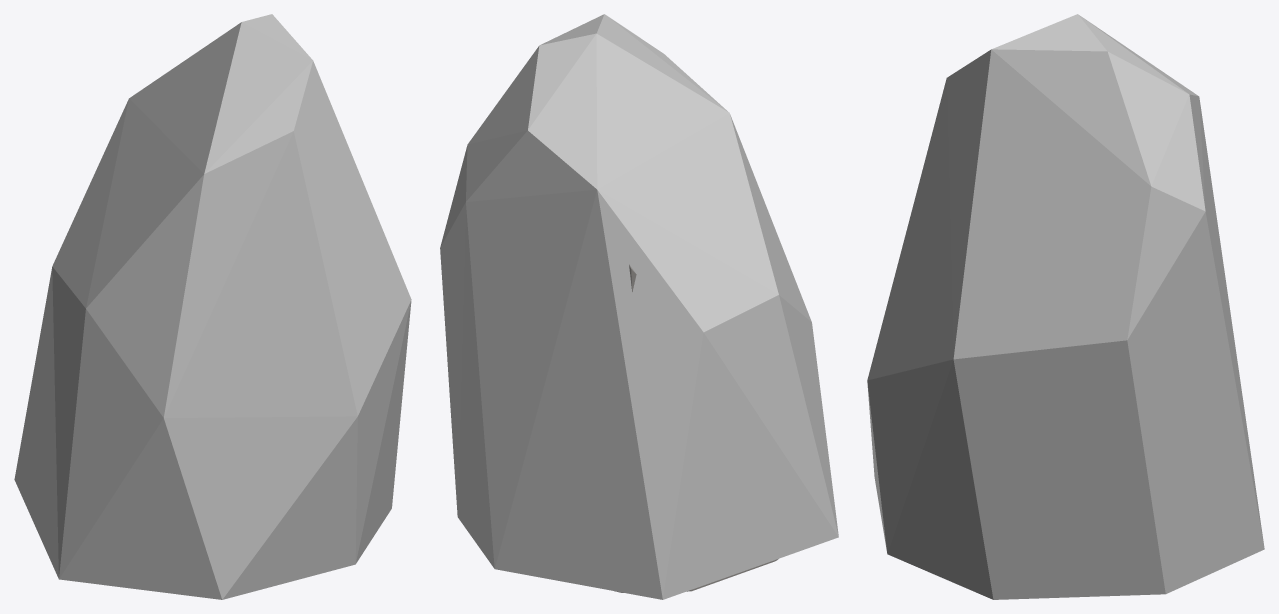
Rendered from SM_Rock_01.fbx.
3 renders of one model, left to right at view 1: azimuth 30°, elevation 25°; view 2: azimuth 150°, elevation 25°; view 3: azimuth 270°, elevation 25°, orthographic. The views are drawn at different scales.
Visible parts, largest first — view 1: SM_Rock_01_ConvexHulls; view 2: SM_Rock_01_ConvexHulls; view 3: SM_Rock_01_ConvexHulls.
Part boxes in pixels (left/top/right/bottom): SM_Rock_01_ConvexHulls: left=14, top=14, right=411, bottom=599; SM_Rock_01_ConvexHulls: left=440, top=14, right=838, bottom=599; SM_Rock_01_ConvexHulls: left=867, top=14, right=1264, bottom=599.
Bounding box in the file's own units: 90.86 × 82.23 × 120.
